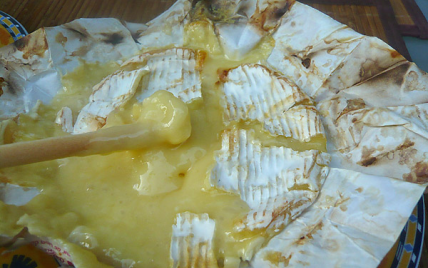camembert: (44, 44, 329, 262)
